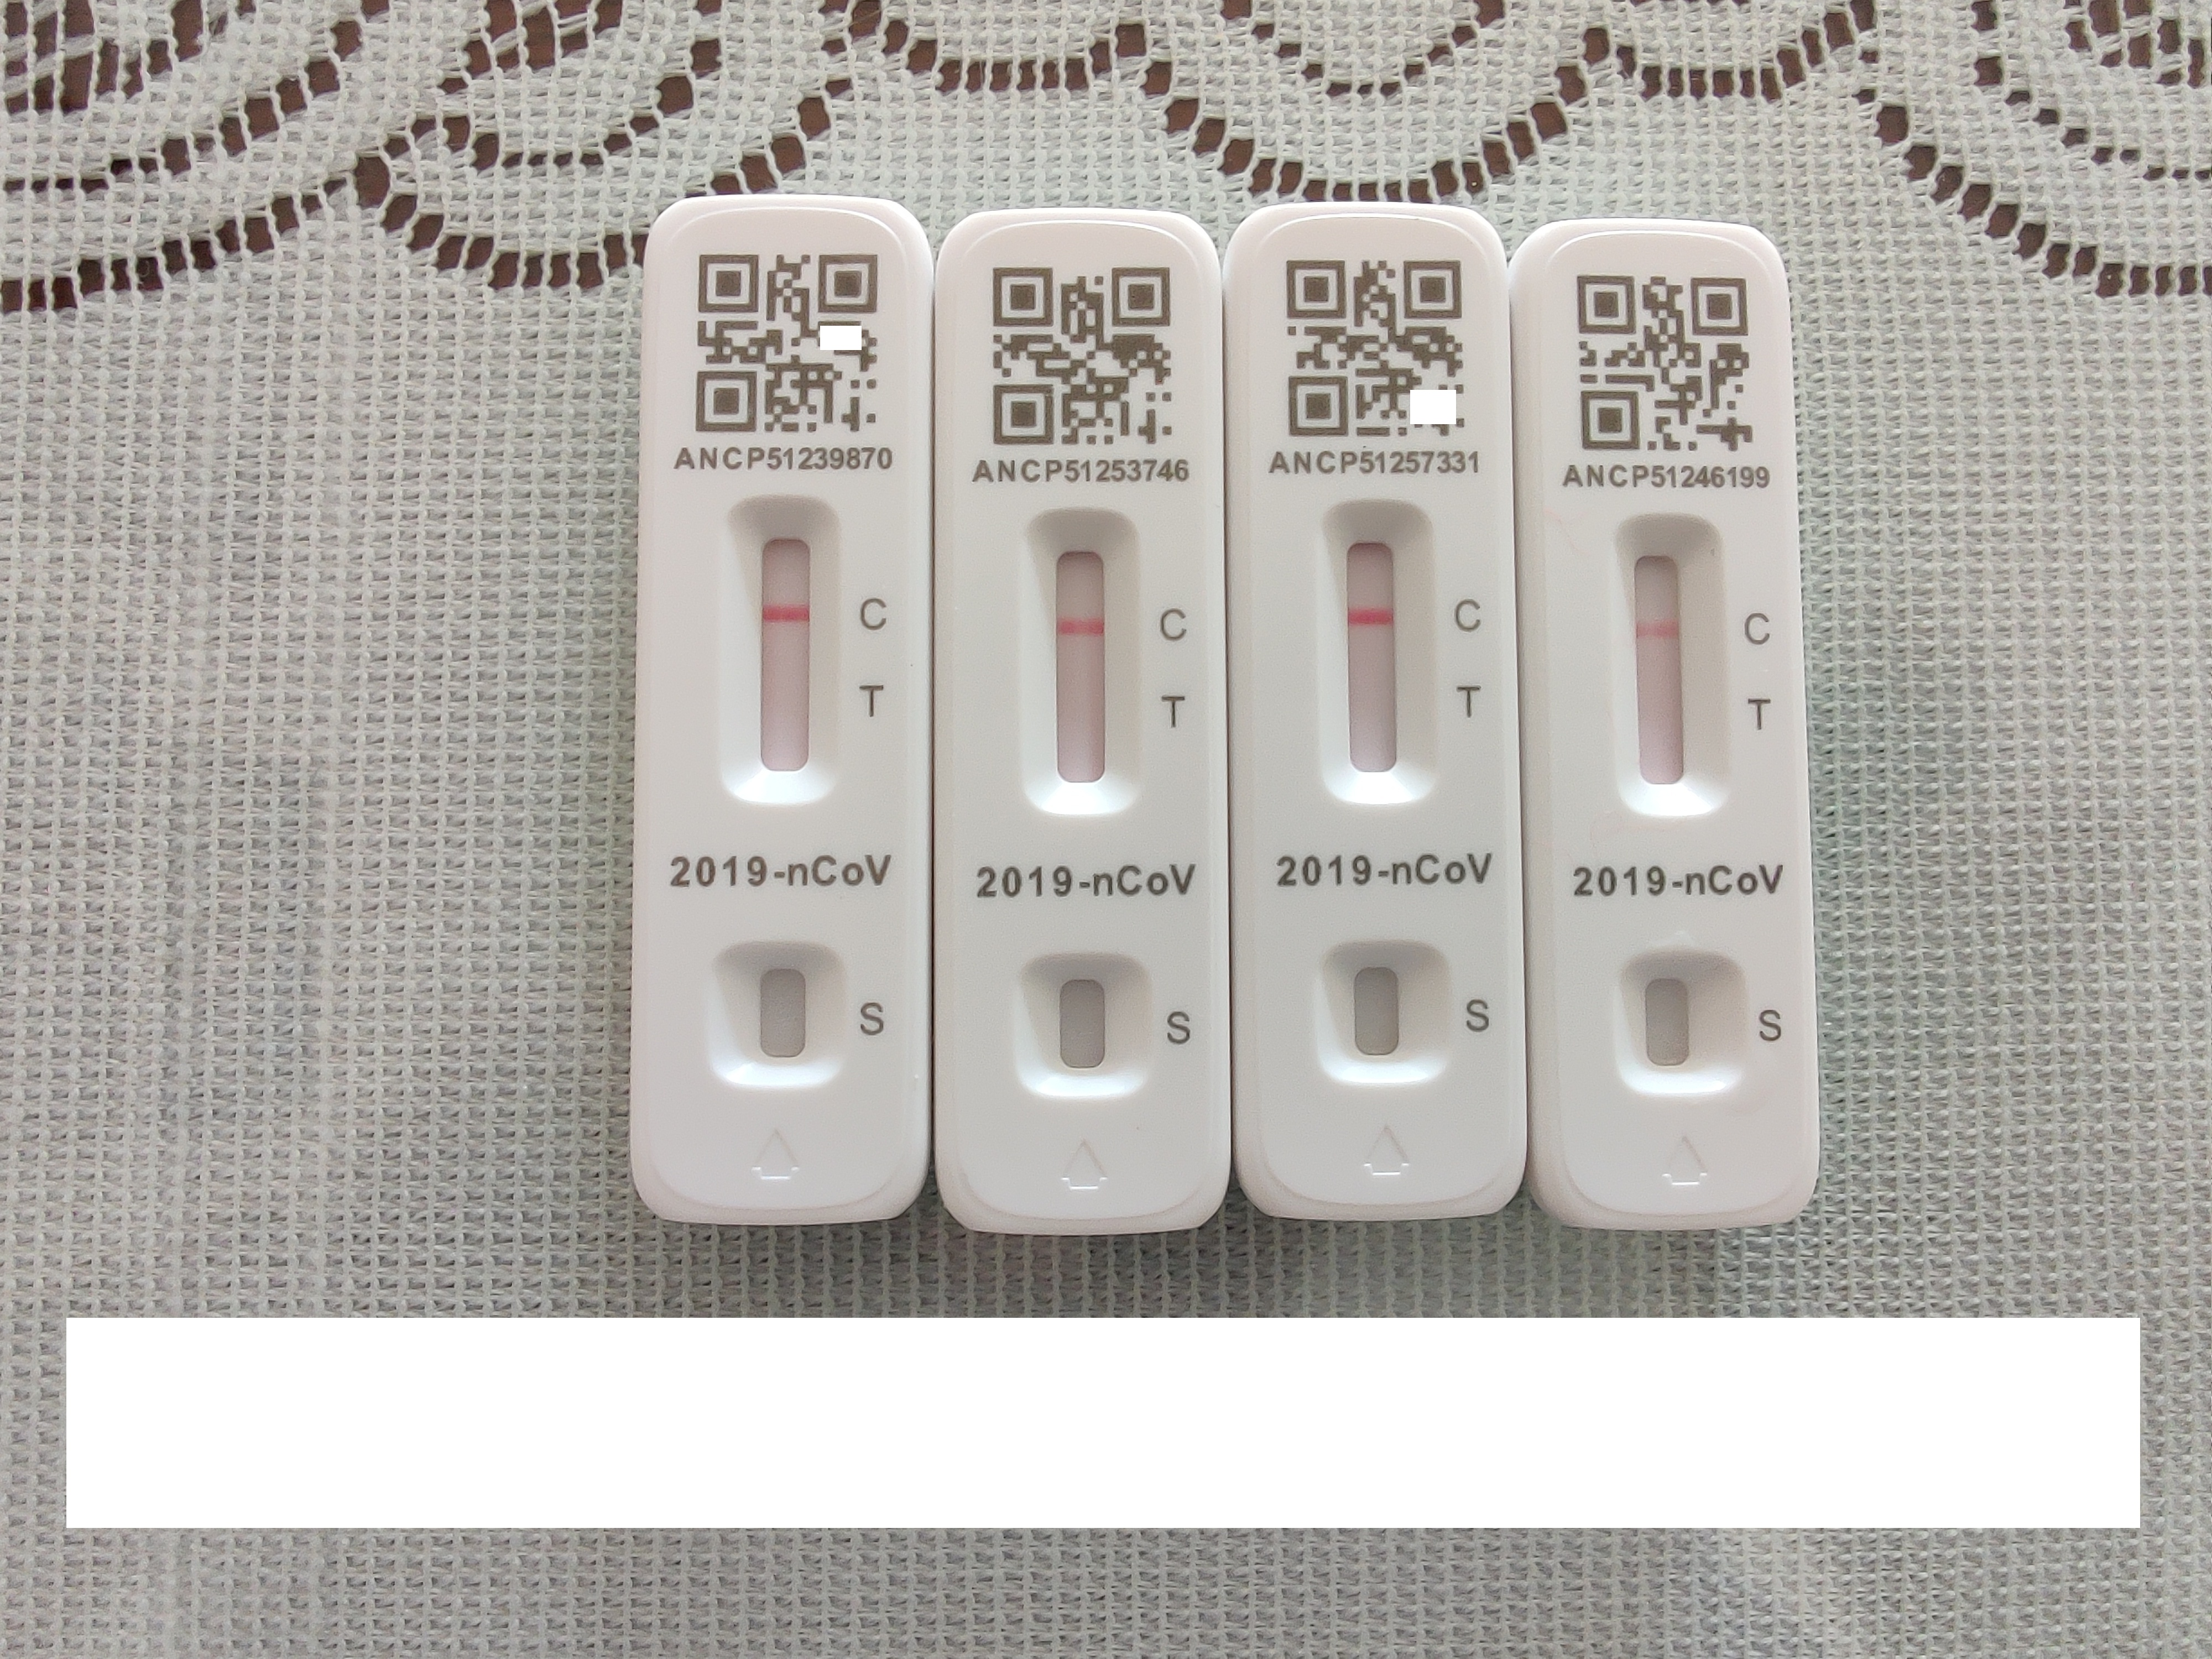negative: (1022, 490, 1144, 819), (725, 497, 843, 810), (1609, 512, 1726, 817), (1315, 505, 1430, 810)
